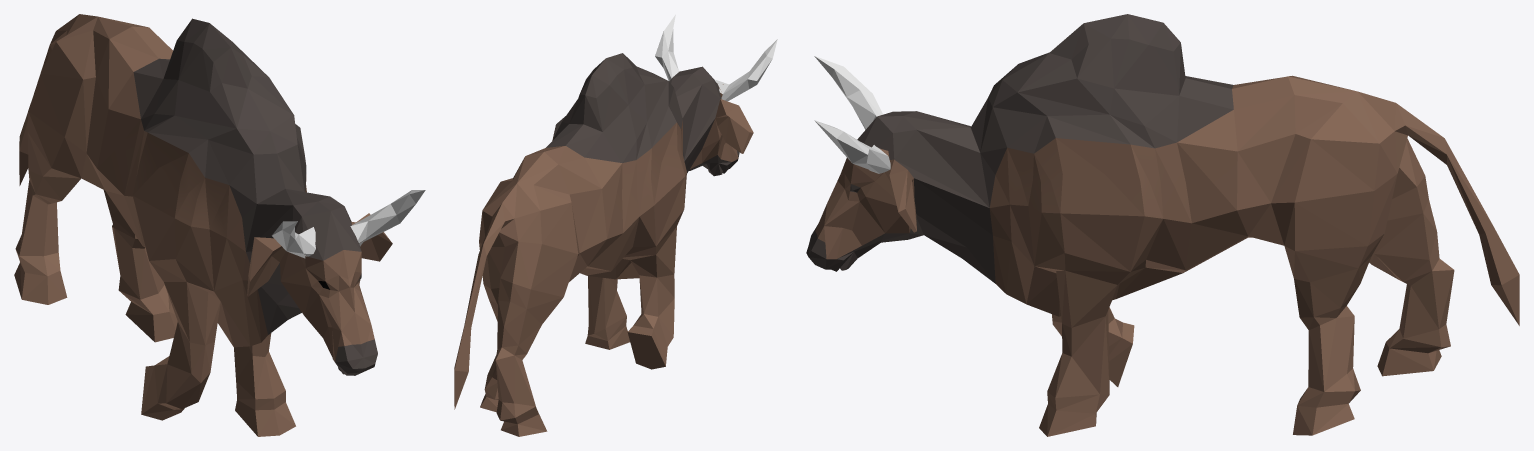
Rendered from toro_3.obj.
3 views of the same model, side by side, from view 1: azimuth 30°, elevation 25°; view 2: azimuth 150°, elevation 25°; view 3: azimuth 270°, elevation 25° (orthographic). The views are drawn at different scales.
Parts seen in each view (by area): view 1: Mesh1FBXASC032Model; view 2: Mesh1FBXASC032Model; view 3: Mesh1FBXASC032Model.
Part boxes in pixels (<box>): Mesh1FBXASC032Model: <box>14,14,425,436</box>; Mesh1FBXASC032Model: <box>454,14,777,436</box>; Mesh1FBXASC032Model: <box>806,14,1519,436</box>.
Size of the model in its own units: 244 by 624 by 1009.
Materials: 1 (1 with a texture image).
